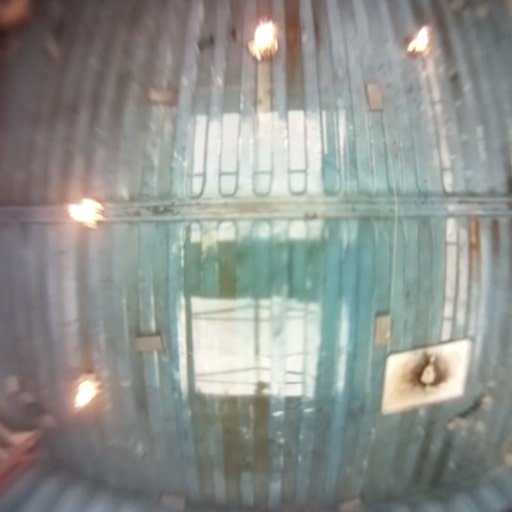Fire: (248, 19, 280, 59), (68, 197, 103, 228), (407, 24, 430, 52), (75, 381, 96, 407)
